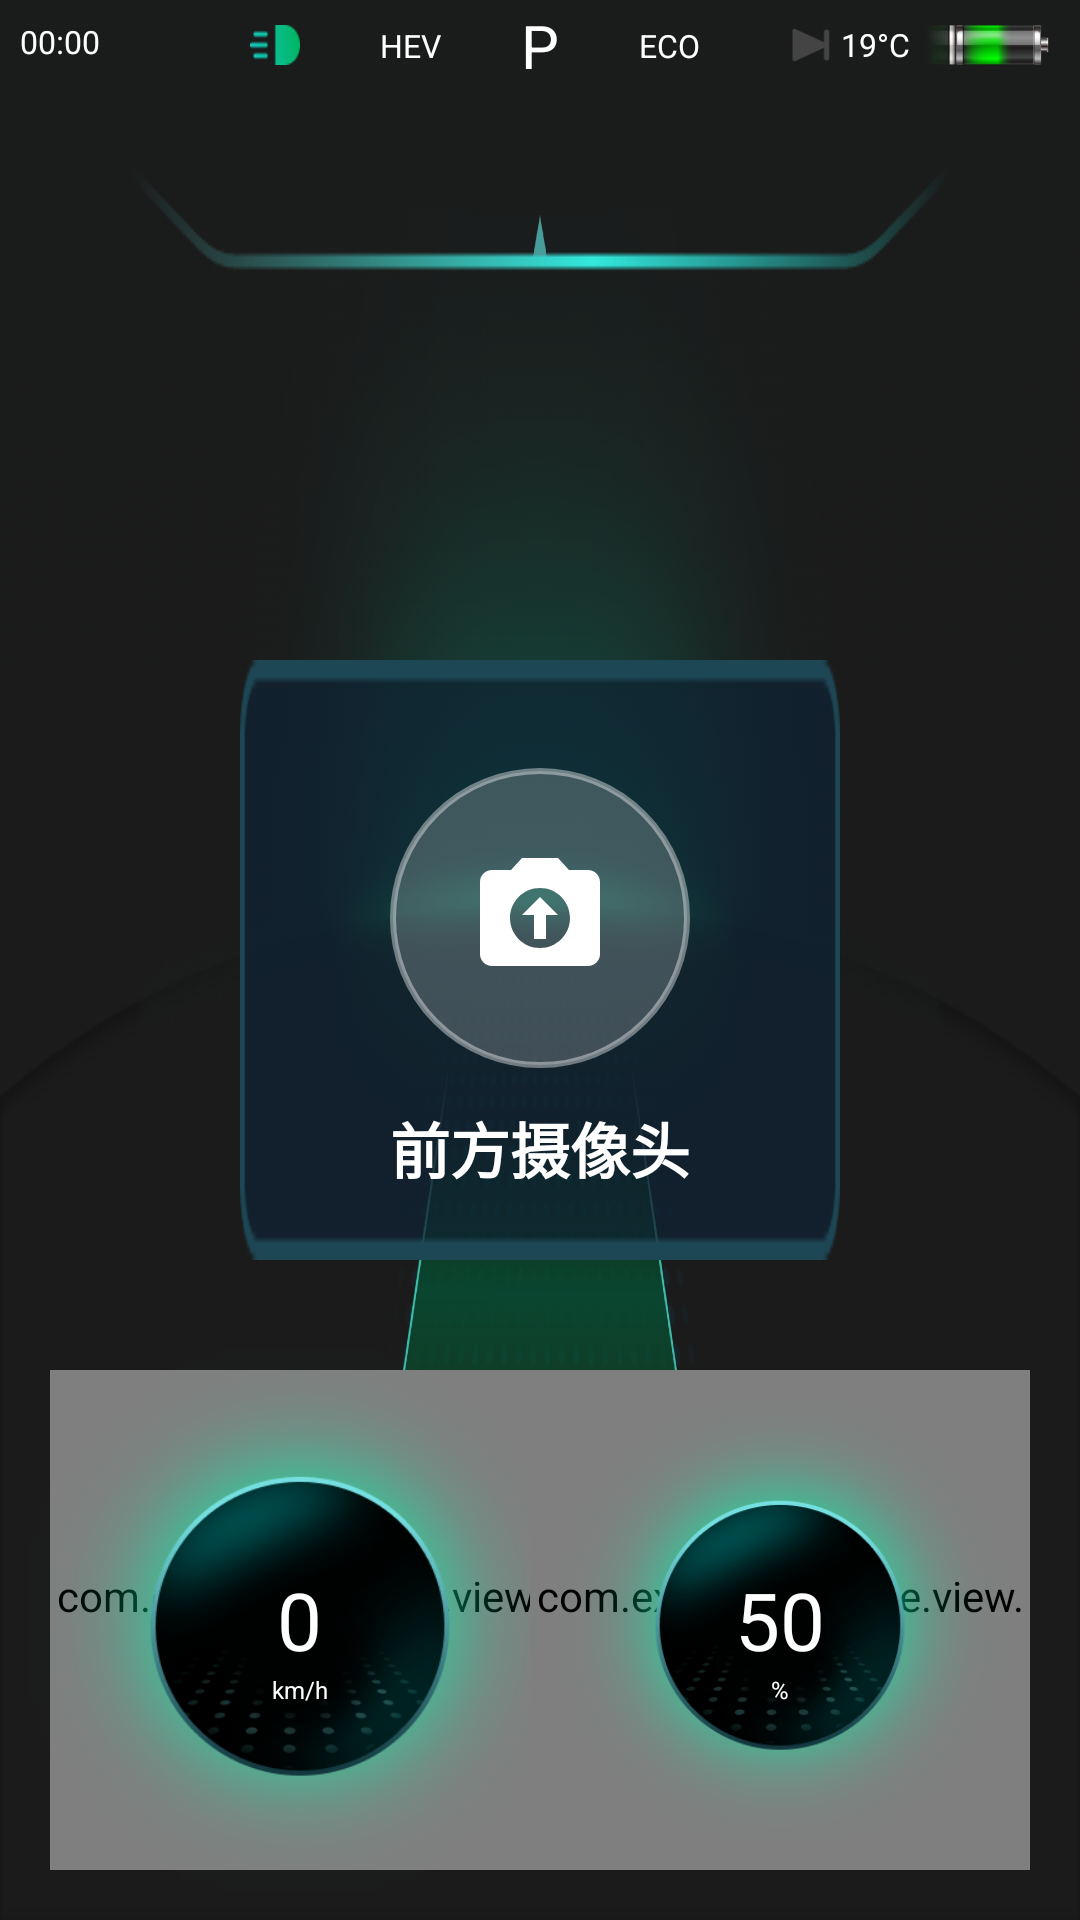

Where to tap for icons on this 1080 x 1920 app screen, as (x,y):
right arrow: (811,45)
